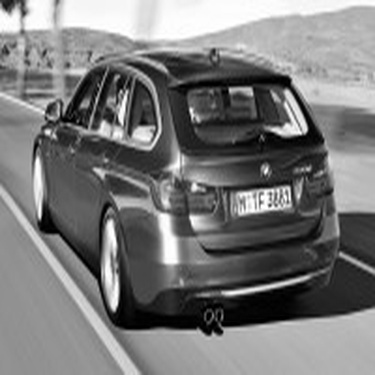car: (27, 40, 350, 336)
